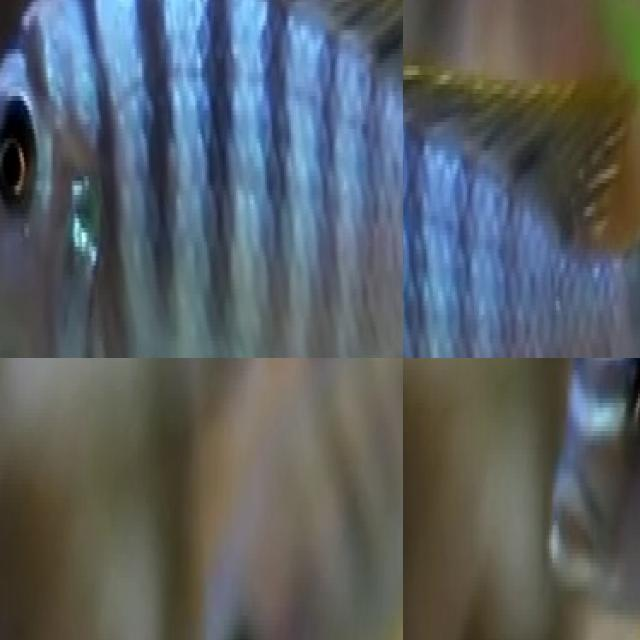fish: (0, 0, 403, 358), (403, 23, 640, 358), (551, 358, 640, 640)
